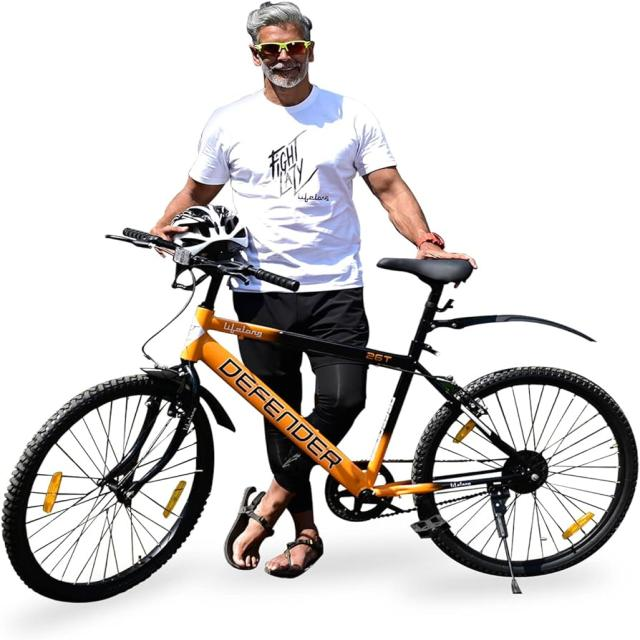bicycle: (3, 205, 636, 602)
